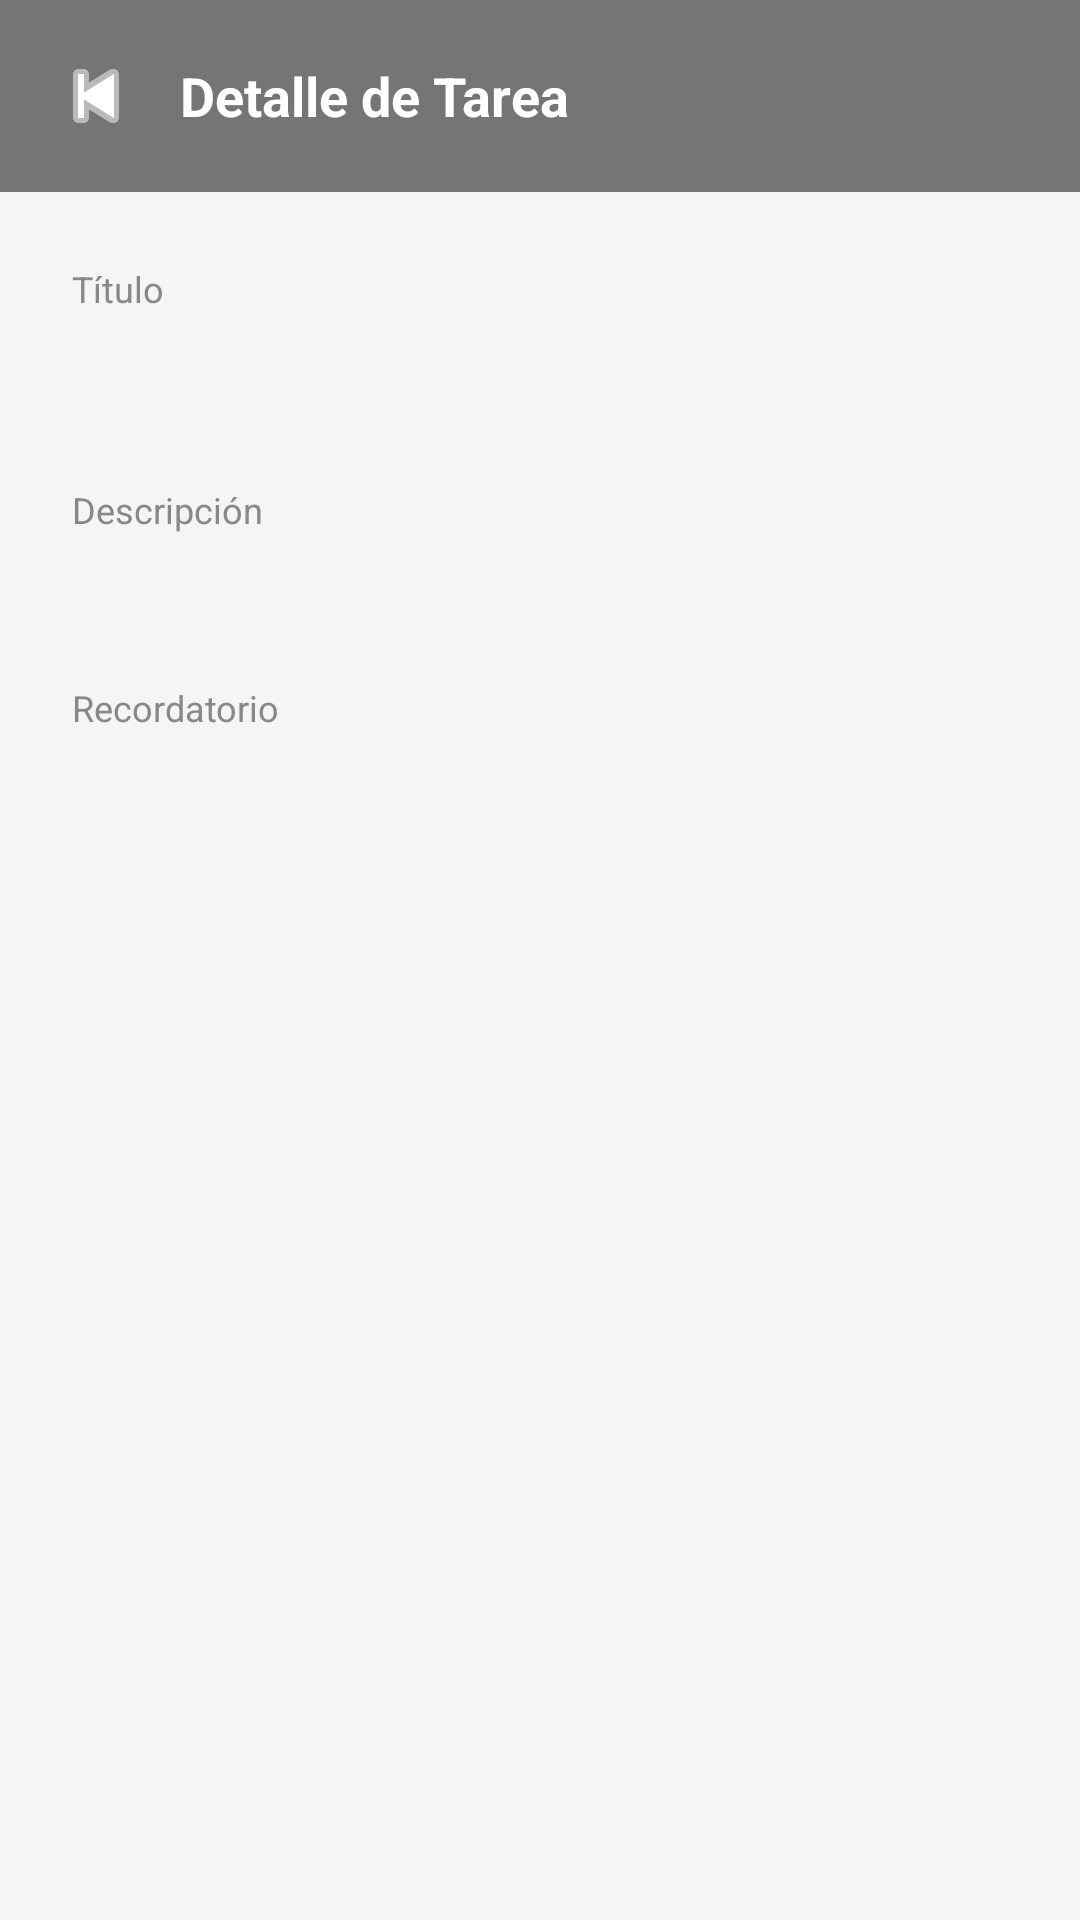

Icons on this 1080w x 1920h Android screen, each with the point to tap as (x=x, y=y):
previous: (x=96, y=96)
